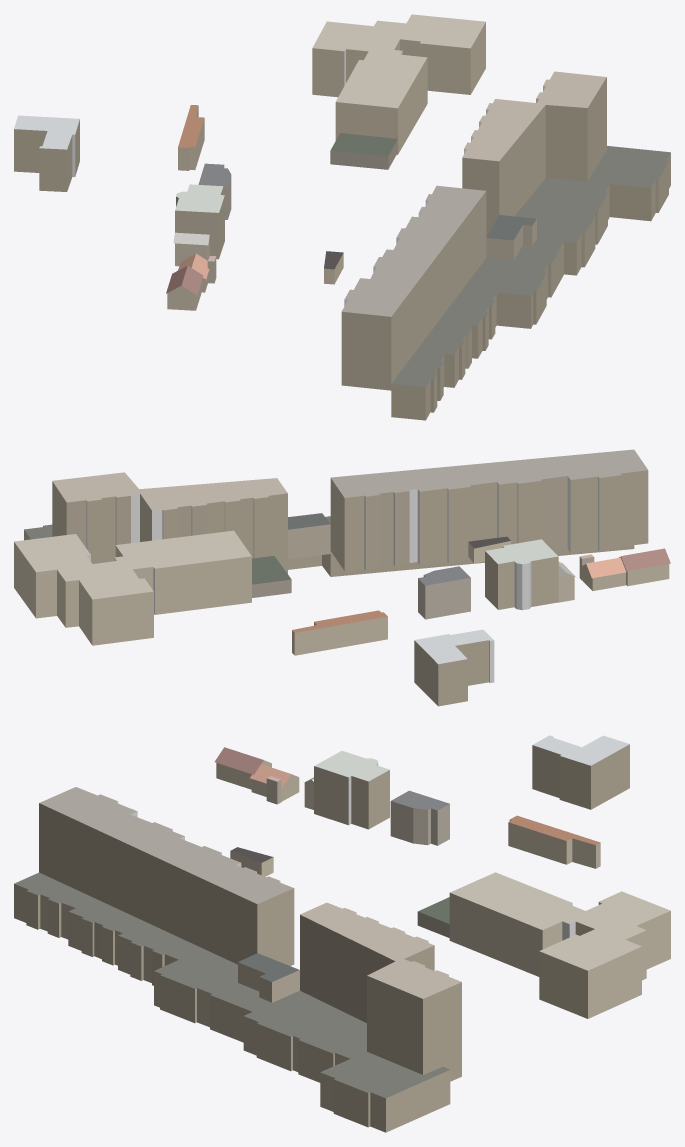
3 renders of one model, top to bottom at view 1: azimuth 30°, elevation 25°; view 2: azimuth 150°, elevation 25°; view 3: azimuth 270°, elevation 25°, orthographic. The views are drawn at different scales.
Parts seen in each view (by area): view 1: tuile; view 2: tuile; view 3: tuile.
Part boxes in pixels (x1,y1,x2,y2): tuile: (14,14,670,420); tuile: (14,449,670,706); tuile: (14,735,670,1132).
Size of the model in its own units: 184 by 35.48 by 175.
